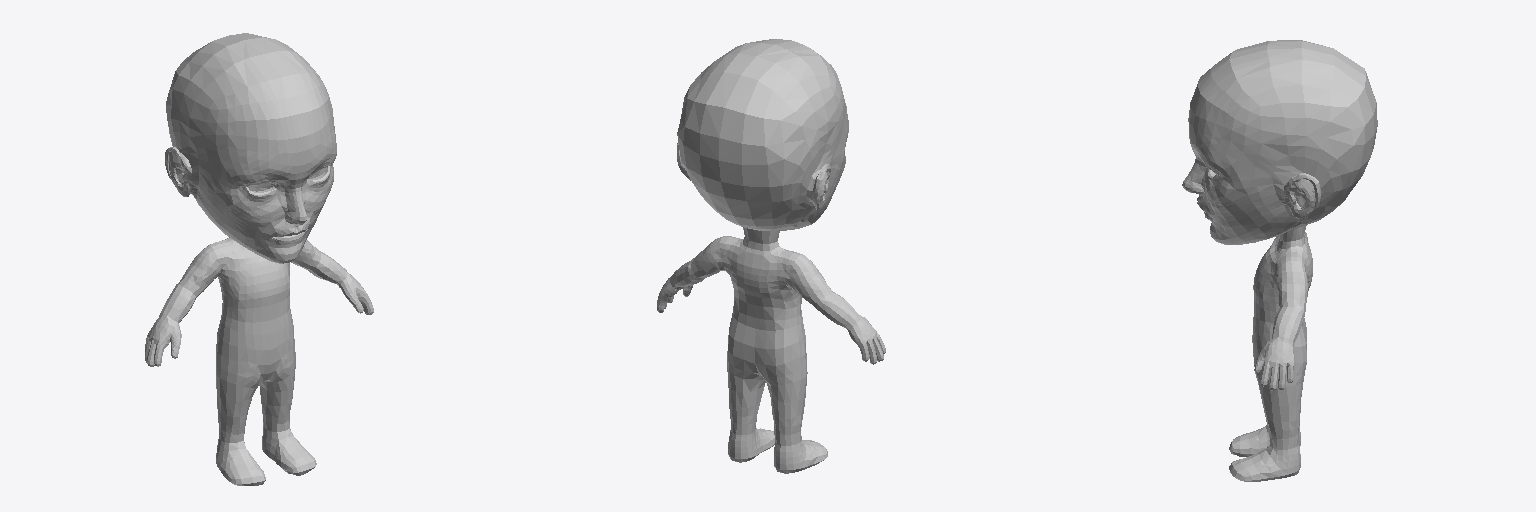
File: boy14.obj
3 renders of one model, left to right at view 1: azimuth 30°, elevation 25°; view 2: azimuth 150°, elevation 25°; view 3: azimuth 270°, elevation 25°, orthographic.
Parts seen in each view (by area): view 1: body027; view 2: body027; view 3: body027.
Part boxes in pixels (x1,y1,x2,y2): body027: (145,33,373,485); body027: (657,39,885,473); body027: (1182,40,1377,481).
Bounding box in the file's own units: 0.4289 × 0.7589 × 0.3233.